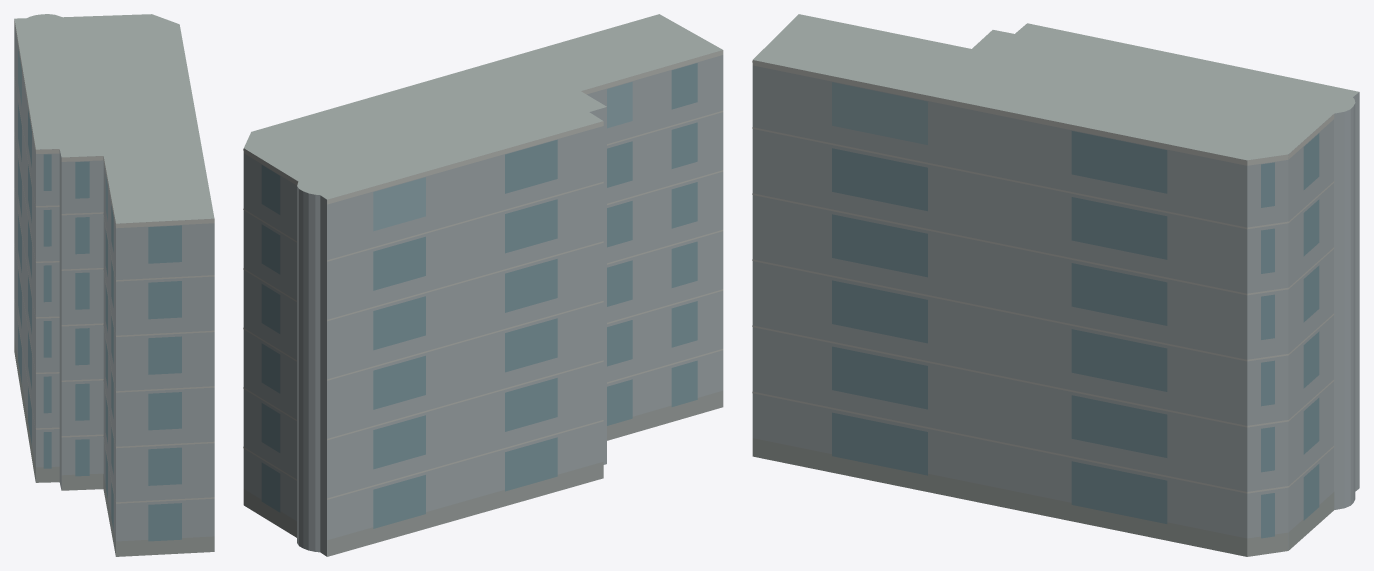
File: survey-upis-32963440.glb
3 views of the same model, side by side, from view 1: azimuth 30°, elevation 25°; view 2: azimuth 150°, elevation 25°; view 3: azimuth 270°, elevation 25° (orthographic). The views are drawn at different scales.
Parts seen in each view (by area): view 1: survey-upis-32963440.tmp; view 2: survey-upis-32963440.tmp; view 3: survey-upis-32963440.tmp.
Boxes of the visible parts, box(x1,y1,x2,y2) form: survey-upis-32963440.tmp: box(14, 14, 214, 556); survey-upis-32963440.tmp: box(243, 14, 723, 556); survey-upis-32963440.tmp: box(752, 14, 1359, 556).
Bounding box in the file's own units: 14.11 × 17.8 × 24.71.
